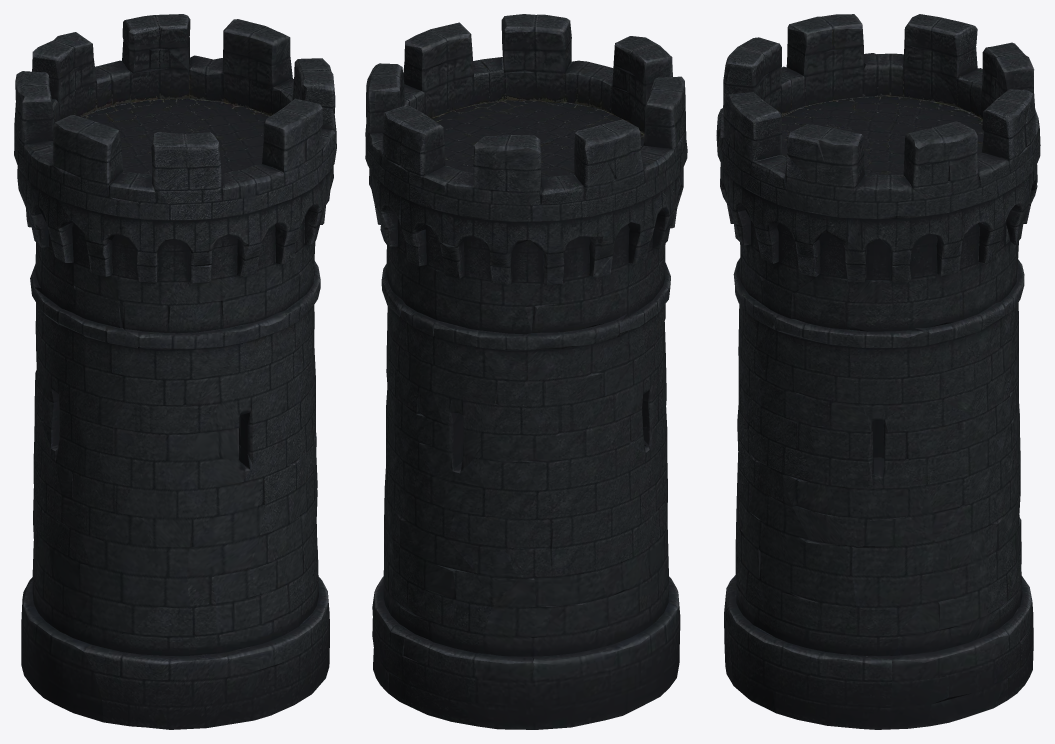
Rendered from wall_tower.glb.
3 renders of one model, left to right at view 1: azimuth 30°, elevation 25°; view 2: azimuth 150°, elevation 25°; view 3: azimuth 270°, elevation 25°, orthographic.
Visible parts, largest first — view 1: output_unwrapped; view 2: output_unwrapped; view 3: output_unwrapped.
Boxes of the visible parts, x1,y1,x2,y2 form: output_unwrapped: (14,14,336,729); output_unwrapped: (365,14,687,729); output_unwrapped: (716,14,1040,729).
Size of the model in its own units: 0.945 by 1.9 by 0.9471.
Materials: 1 (1 with a texture image).
